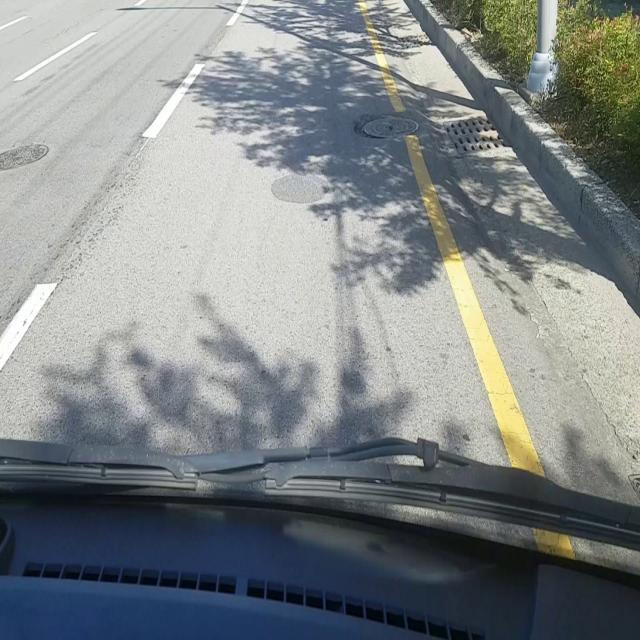Pothole: (352, 112, 421, 140)
